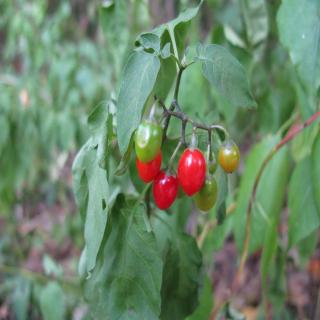tomato: (175, 143, 205, 195)
